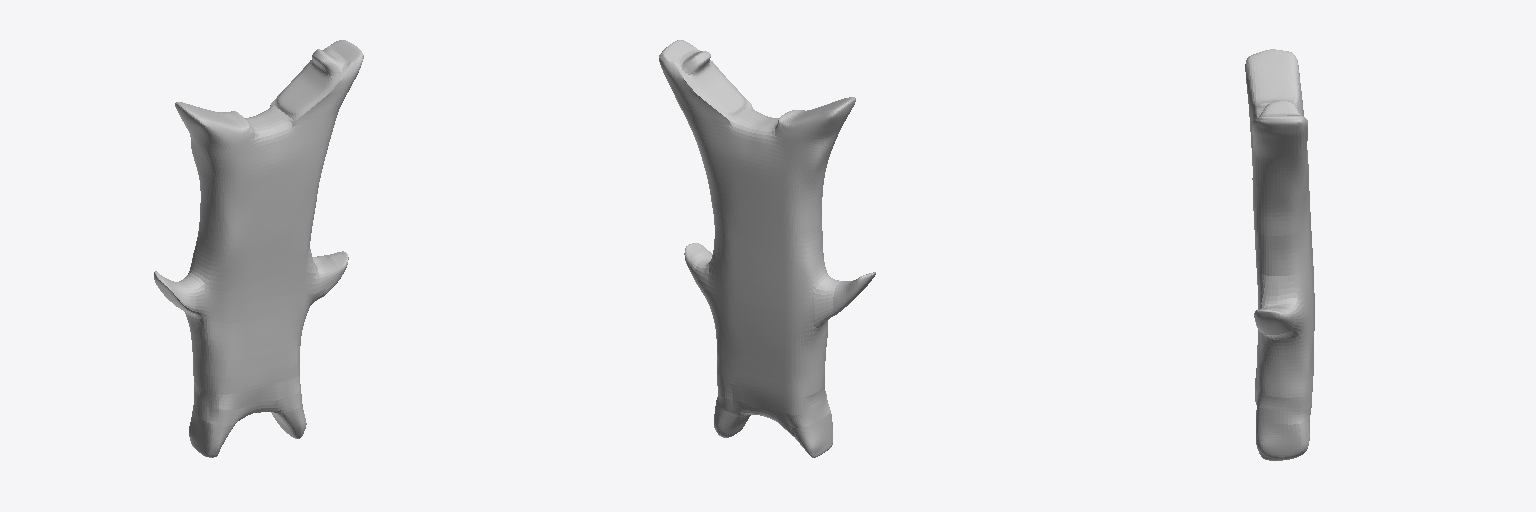
Rendered from korok4.obj.
3 renders of one model, left to right at view 1: azimuth 30°, elevation 25°; view 2: azimuth 150°, elevation 25°; view 3: azimuth 270°, elevation 25°, orthographic.
Visible parts, largest first — view 1: Plane; view 2: Plane; view 3: Plane.
Boxes of the visible parts, x1=… form: Plane: x1=154, y1=40, x2=363, y2=457; Plane: x1=659, y1=40, x2=875, y2=457; Plane: x1=1245, y1=49, x2=1314, y2=460.
Size of the model in its own units: 1.02 by 1.82 by 0.306.